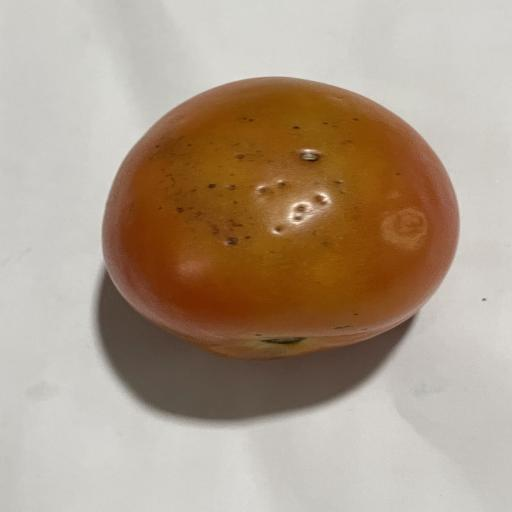unripe: (103, 77, 458, 360)
